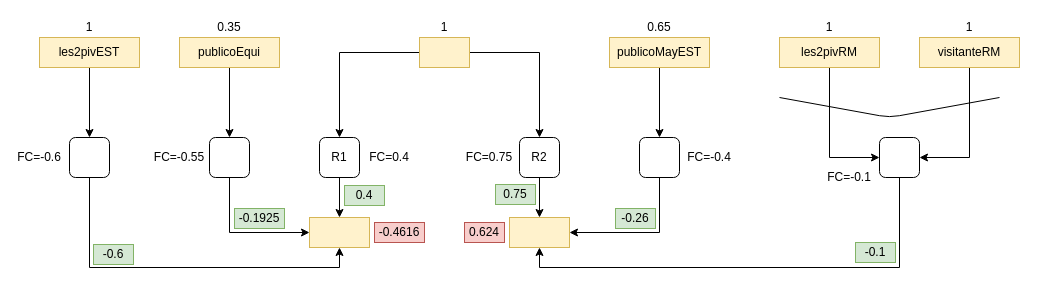
This 1037x293 diagram has some shape labels left out. Here are the shapes that lost their labels. From the top down, the box of each, then its label:
(418, 36, 470, 68): arbMod
(68, 136, 110, 178): R6
(208, 136, 250, 178): R4
(638, 136, 680, 178): R3
(878, 136, 920, 178): R5
(308, 216, 370, 248): ganaEST
(508, 216, 570, 248): ganaRM
